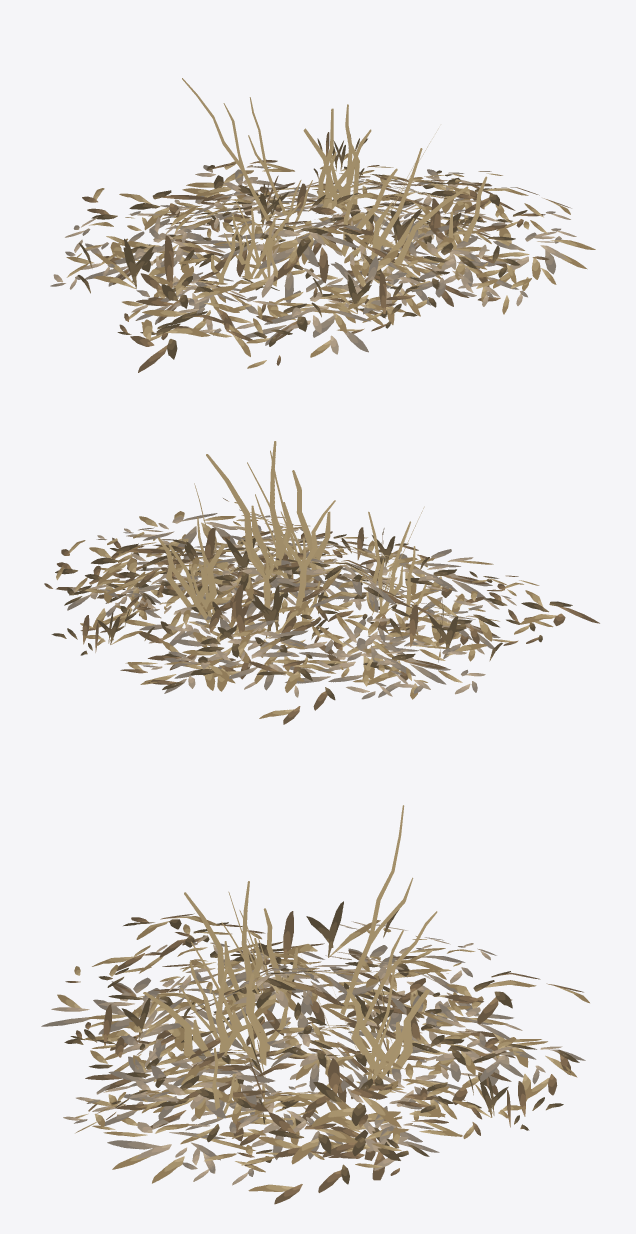
File: SM_Env_GroundCover_02.fbx
3 renders of one model, top to bottom at view 1: azimuth 30°, elevation 25°; view 2: azimuth 150°, elevation 25°; view 3: azimuth 270°, elevation 25°, orthographic. The views are drawn at different scales.
Visible parts, largest first — view 1: SM_Env_GroundCover_02_LOD0; view 2: SM_Env_GroundCover_02_LOD0; view 3: SM_Env_GroundCover_02_LOD0.
Part boxes in pixels (<box>): SM_Env_GroundCover_02_LOD0: <box>50,78,595,372</box>; SM_Env_GroundCover_02_LOD0: <box>44,441,599,724</box>; SM_Env_GroundCover_02_LOD0: <box>41,805,589,1204</box>.
Size of what is drawn, in the model's own units: 240 by 94.49 by 208.
